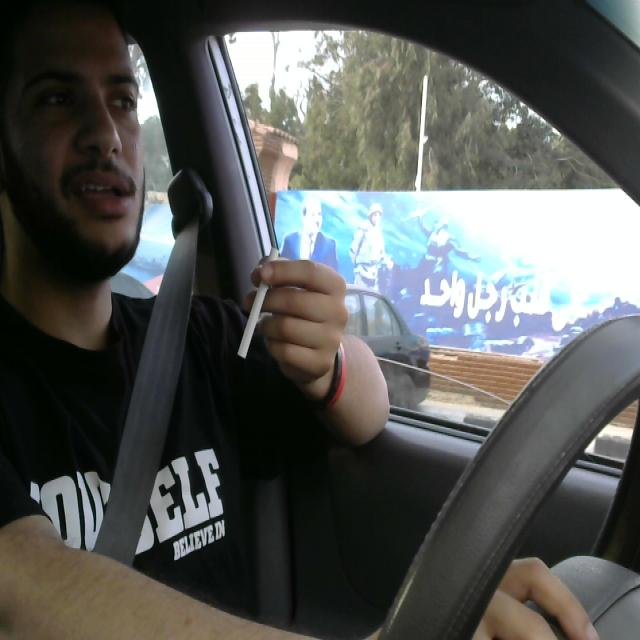smoking: (238, 250, 280, 362)
